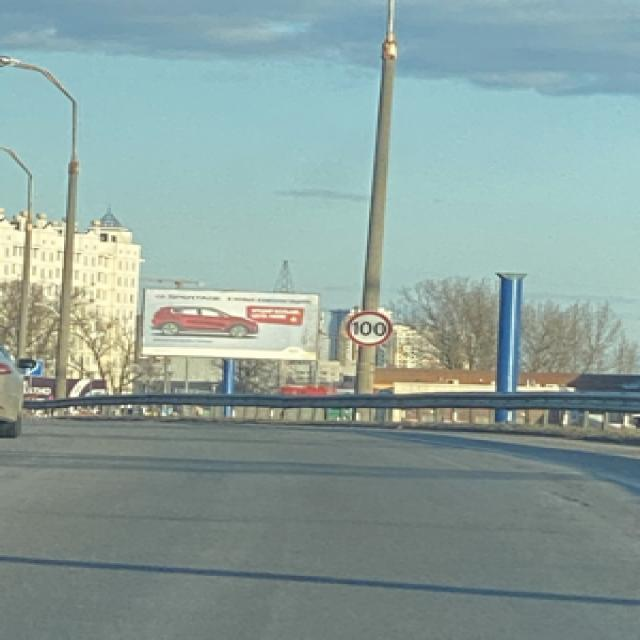speedlimit: (342, 308, 388, 342)
